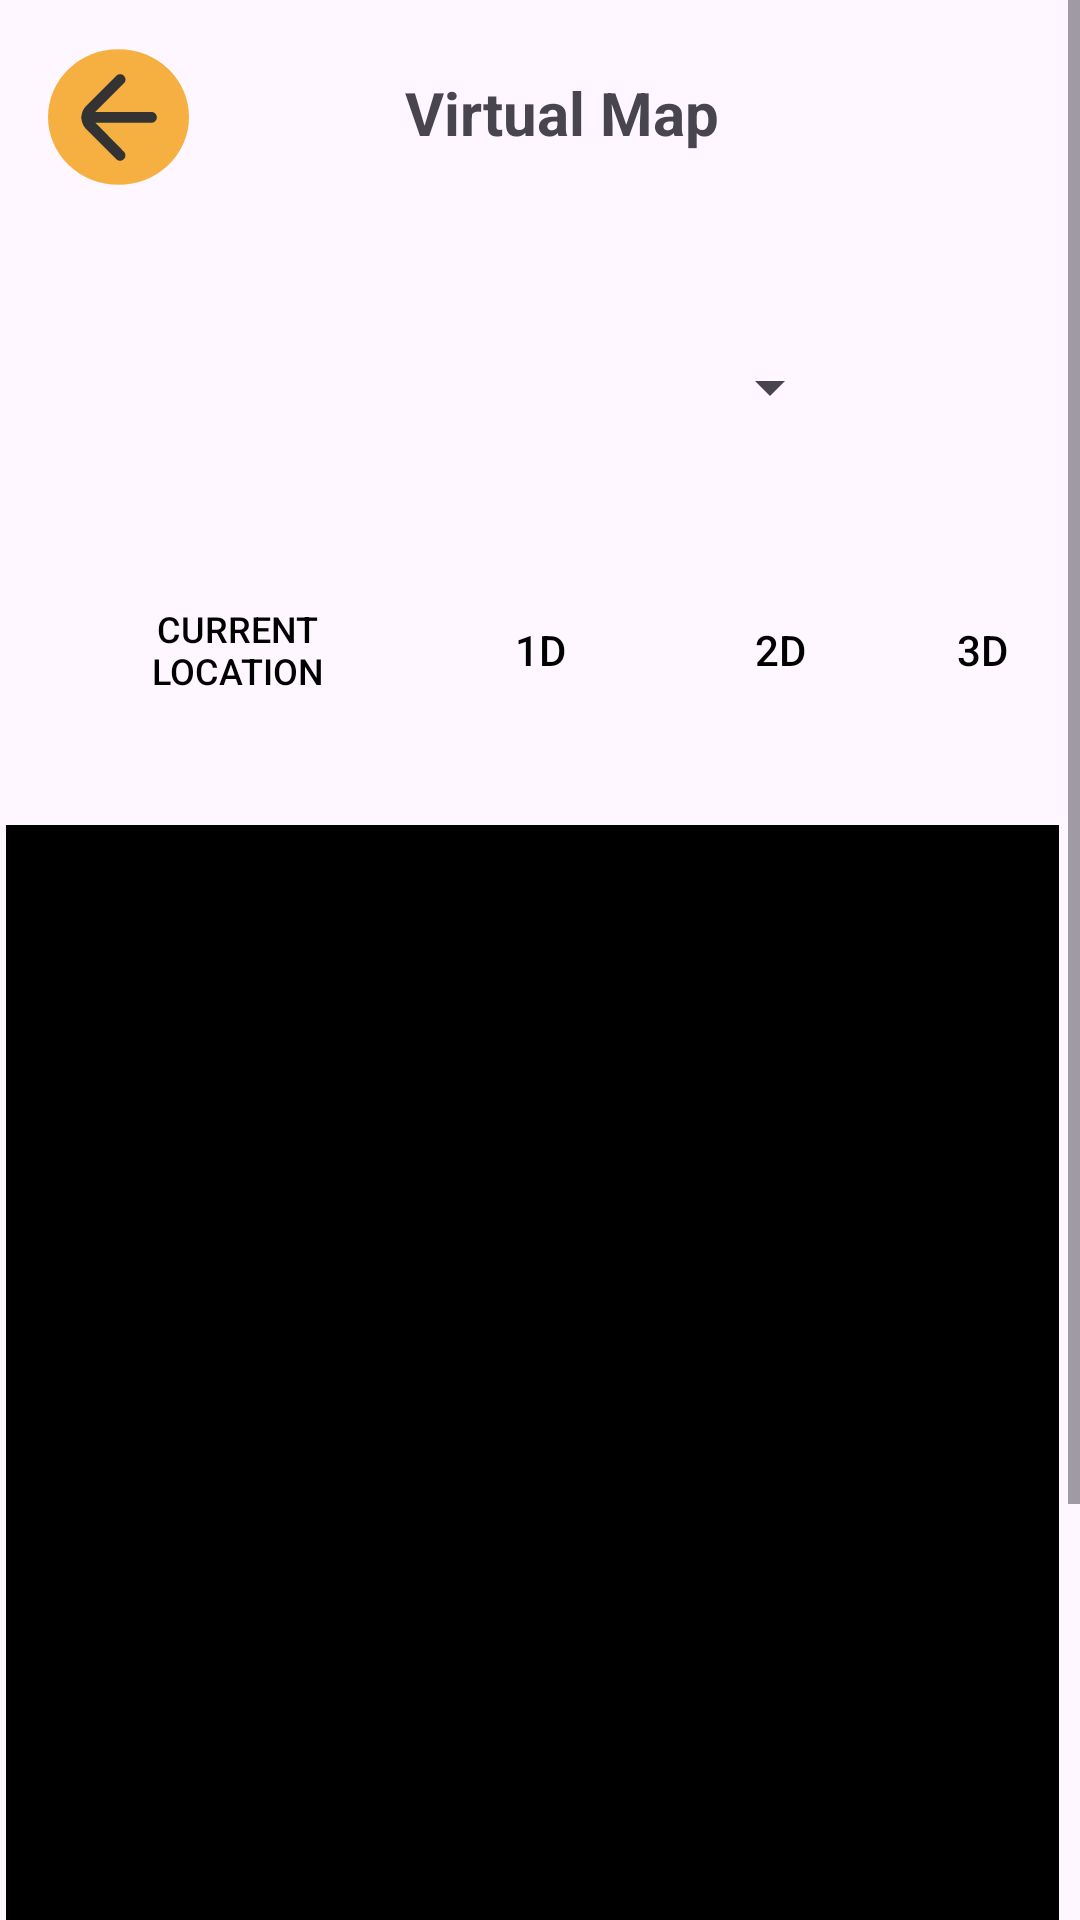

Where to tap for icons on this 1080x1920 app screen, as (x,y):
back arrow: (118,117)
